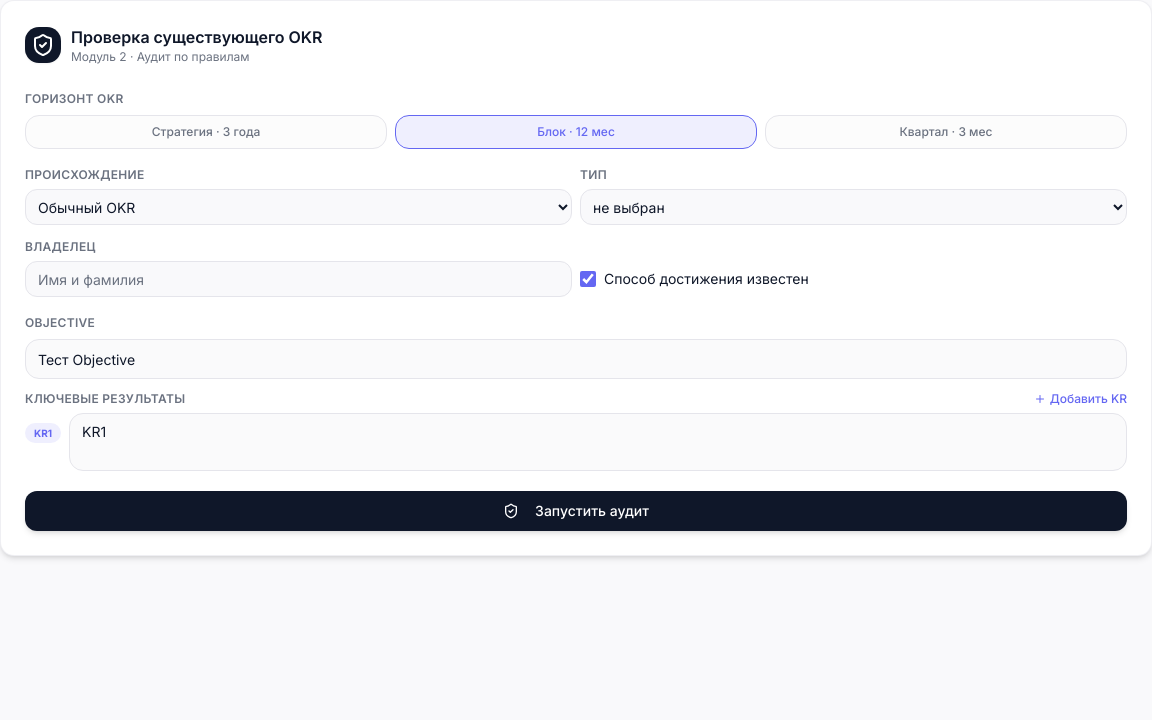
Test case: OkrValidator (Module 2) › клик на 'Квартал · 3 мес' переключает активную кнопку и показывает пояснение
Click the button "Квартал · 3 мес".
click(946, 132)  # box [765,115,1127,149]
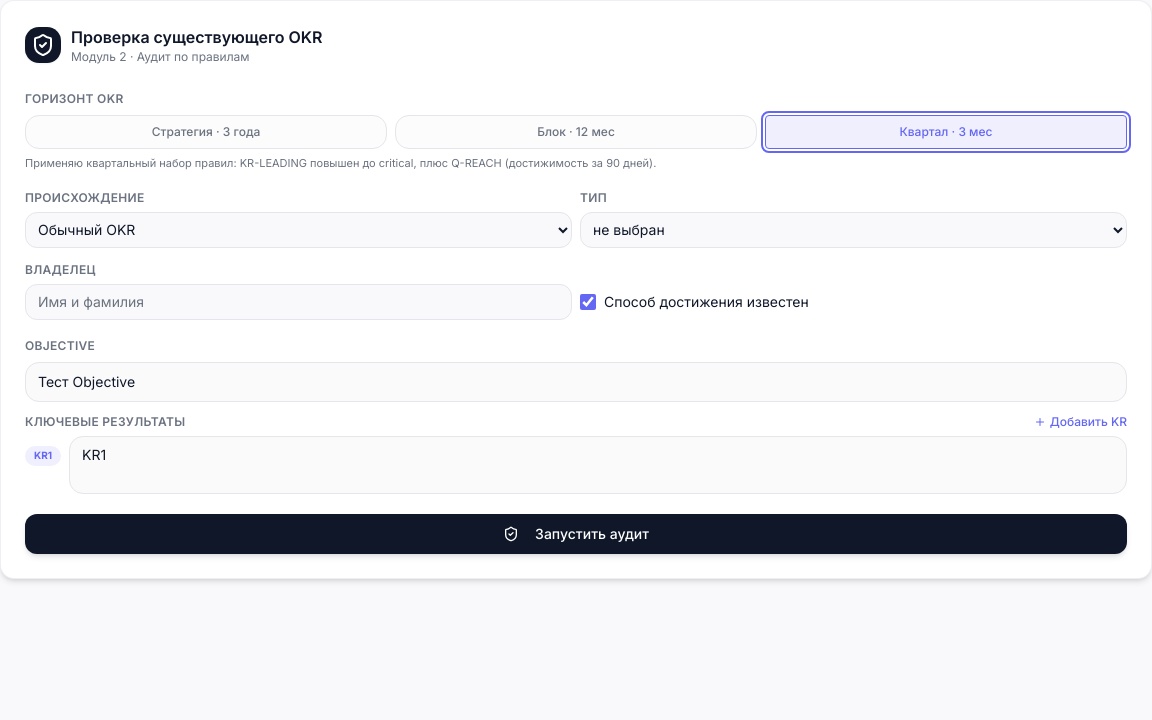
Check: the text "Q-REACH" is shown, box [25,156,656,170]
